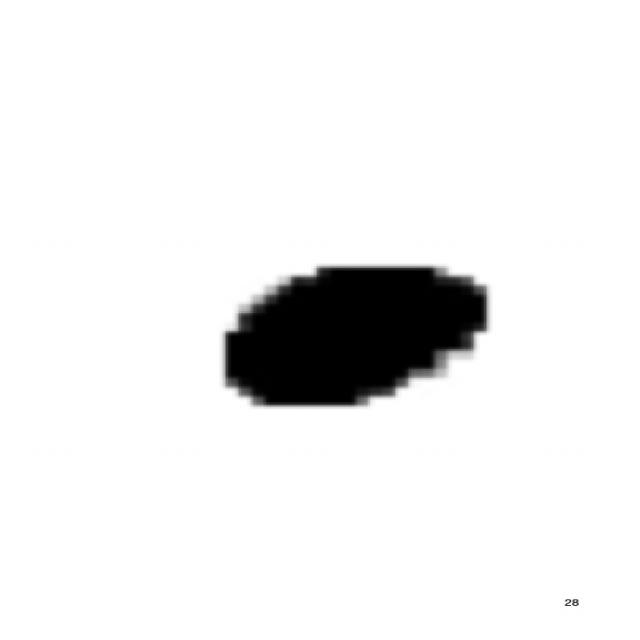0 -zero-: (212, 255, 503, 420)
